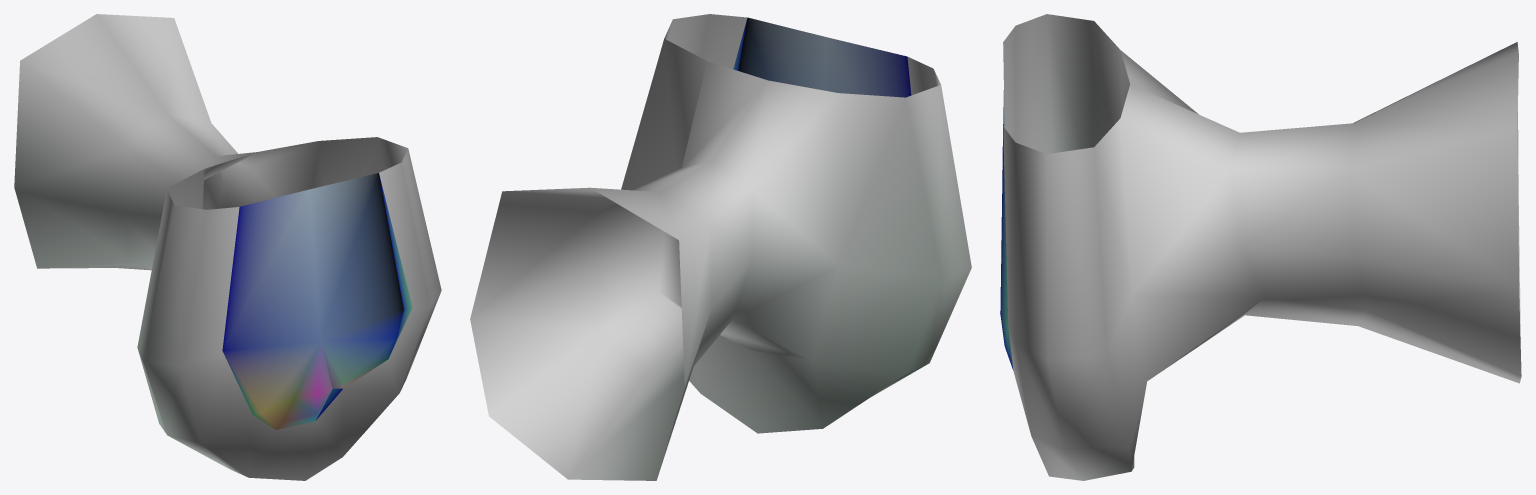
Rendered from Volcano_BridgeTipA.glb.
3 views of the same model, side by side, from view 1: azimuth 30°, elevation 25°; view 2: azimuth 150°, elevation 25°; view 3: azimuth 270°, elevation 25° (orthographic). The views are drawn at different scales.
Visible parts, largest first — view 1: MeshNode_0, MeshNode_1; view 2: MeshNode_0, MeshNode_1; view 3: MeshNode_0, MeshNode_1.
Part boxes in pixels (bbox=[...]): MeshNode_0: bbox=[14, 14, 441, 480]; MeshNode_1: bbox=[222, 173, 412, 429]; MeshNode_0: bbox=[470, 14, 971, 480]; MeshNode_1: bbox=[733, 17, 911, 97]; MeshNode_0: bbox=[1003, 14, 1521, 480]; MeshNode_1: bbox=[1000, 61, 1013, 369].
Bounding box in the file's own units: 40.55 × 43.27 × 50.18.
